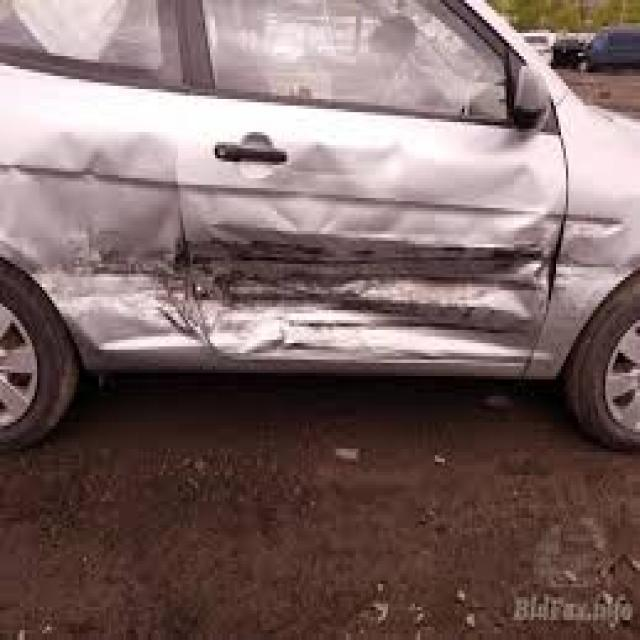damaged-door: (176, 0, 554, 369), (2, 0, 202, 355)
